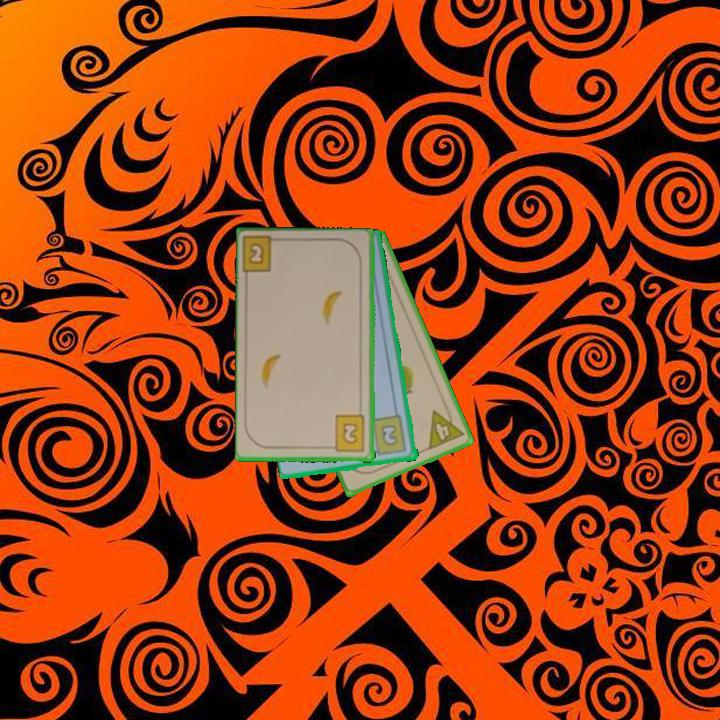2b: (367, 412, 410, 459), (241, 235, 285, 277), (326, 412, 368, 454)
4p: (424, 402, 467, 453)
